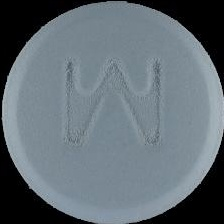53808-0214: (0, 0, 224, 224)
